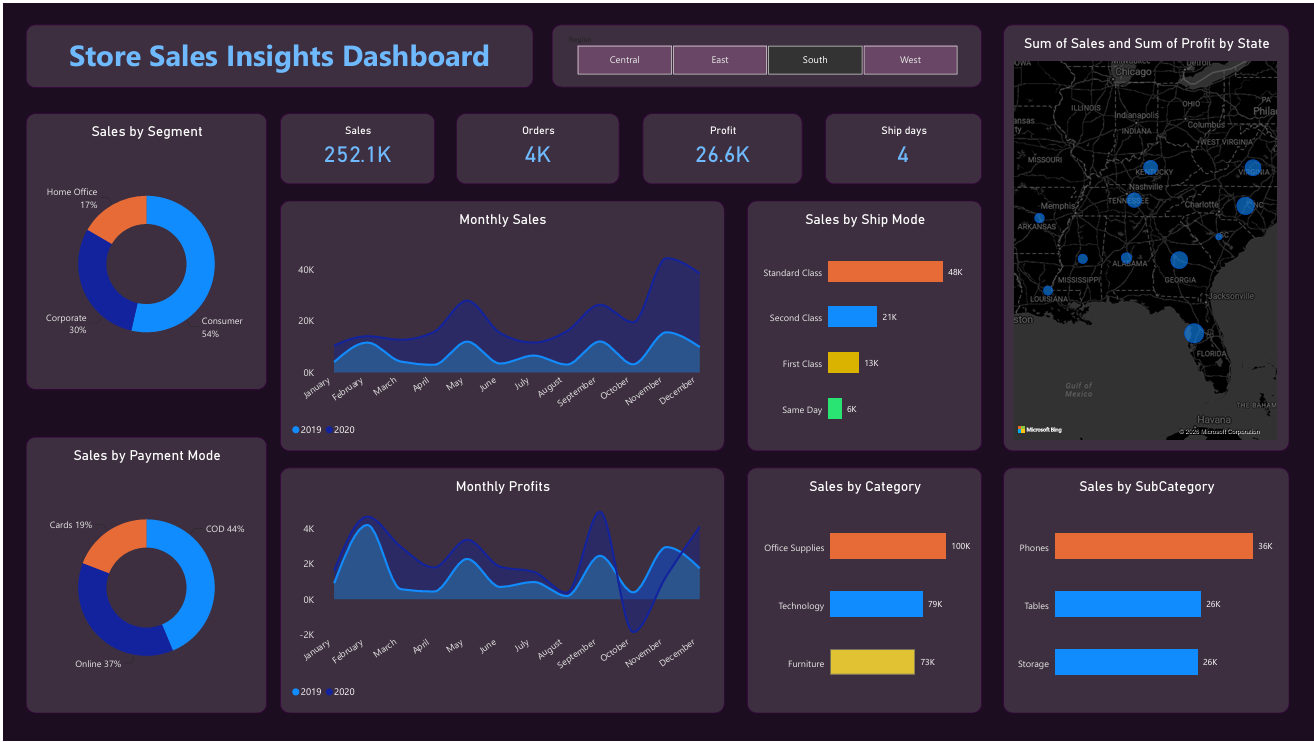

This screenshot's page, from the dashboard's own definition file:
{"tool":"powerbi","page":{"name":"Page 1","canvas":[1920,1080],"ordinal":0},"visuals":[{"type":"clusteredBarChart","title":"Sales by Category","fields":{"Category":["Sheet1.Category"],"Y":["Sum(Sheet1.Sales)"]},"box":[1089.5,679.7,343.4,360],"z":0},{"type":"clusteredBarChart","title":"Sales by SubCategory","fields":{"Category":["Sheet1.Sub-Category"],"Y":["Sum(Sheet1.Sales)"]},"box":[1463.7,679.7,419.2,360],"z":1000},{"type":"clusteredBarChart","title":"Sales by Ship Mode","fields":{"Category":["Sheet1.Ship Mode"],"Y":["Sum(Sheet1.Sales)"]},"box":[1089.5,289,343.4,367.1],"z":2000},{"type":"stackedAreaChart","title":"Monthly Sales ","fields":{"Category":["Sheet1.Order Date.Variation.Date Hierarchy.Month","Sheet1.Order Date.Variation.Date Hierarchy.Day"],"Series":["Sheet1.Order Date.Variation.Date Hierarchy.Year"],"Y":["Sum(Sheet1.Sales)"]},"box":[405,289,651.3,367.1],"z":3000},{"type":"stackedAreaChart","title":"Monthly Profits ","fields":{"Category":["Sheet1.Order Date.Variation.Date Hierarchy.Month","Sheet1.Order Date.Variation.Date Hierarchy.Day"],"Series":["Sheet1.Order Date.Variation.Date Hierarchy.Year"],"Y":["Sum(Sheet1.Profit)"]},"box":[405,679.7,651.3,360],"z":4000},{"type":"map","fields":{"Category":["Sheet1.State"],"Size":["Sum(Sheet1.Sales)"]},"box":[1463.7,30.8,419.2,625.3],"z":5000},{"type":"donutChart","title":"Sales by Segment","fields":{"Category":["Sheet1.Segment"],"Y":["Sum(Sheet1.Sales)"]},"box":[33.2,161.1,352.9,405],"z":6000},{"type":"donutChart","title":"Sales by Payment Mode","fields":{"Category":["Sheet1.Payment Mode"],"Y":["Sum(Sheet1.Sales)"]},"box":[33.2,634.7,352.9,405],"z":7000},{"type":"slicer","fields":{"Values":["Sheet1.Region"]},"box":[802.9,30.8,630,92.4],"z":8000},{"type":"textbox","box":[33.2,30.8,742.7,93.1],"z":9000},{"type":"cardVisual","title":"Ship days","fields":{"Data":["Avg(Sheet1.AvgDelivery)"]},"box":[1203.2,161.1,229.7,104.2],"z":10000},{"type":"cardVisual","title":"Orders","fields":{"Data":["Sum(Sheet1.Quantity)"]},"box":[663.2,161.1,239.2,104.2],"z":11000},{"type":"cardVisual","title":"Profit","fields":{"Data":["Sum(Sheet1.Profit)"]},"box":[935.5,161.1,234.5,104.2],"z":12000},{"type":"cardVisual","title":"Sales","fields":{"Data":["Sum(Sheet1.Sales)"]},"box":[405,161.1,227.4,104.2],"z":13000}]}

Visuals, with their boxes in screenshot pixels (x1, y1, x2, y2), scaled from the page's 1920x1080 canvas onto the 1314x742 screenshot:
"Sales by Category" clusteredBarChart: [x1=746, y1=467, x2=981, y2=714]
"Sales by SubCategory" clusteredBarChart: [x1=1002, y1=467, x2=1289, y2=714]
"Sales by Ship Mode" clusteredBarChart: [x1=746, y1=199, x2=981, y2=451]
"Monthly Sales " stackedAreaChart: [x1=277, y1=199, x2=723, y2=451]
"Monthly Profits " stackedAreaChart: [x1=277, y1=467, x2=723, y2=714]
map - Sheet1.State x Sum(Sheet1.Sales): [x1=1002, y1=21, x2=1289, y2=451]
"Sales by Segment" donutChart: [x1=23, y1=111, x2=264, y2=389]
"Sales by Payment Mode" donutChart: [x1=23, y1=436, x2=264, y2=714]
slicer - Sheet1.Region: [x1=549, y1=21, x2=981, y2=85]
textbox: [x1=23, y1=21, x2=531, y2=85]
"Ship days" cardVisual: [x1=823, y1=111, x2=981, y2=182]
"Orders" cardVisual: [x1=454, y1=111, x2=618, y2=182]
"Profit" cardVisual: [x1=640, y1=111, x2=801, y2=182]
"Sales" cardVisual: [x1=277, y1=111, x2=433, y2=182]
